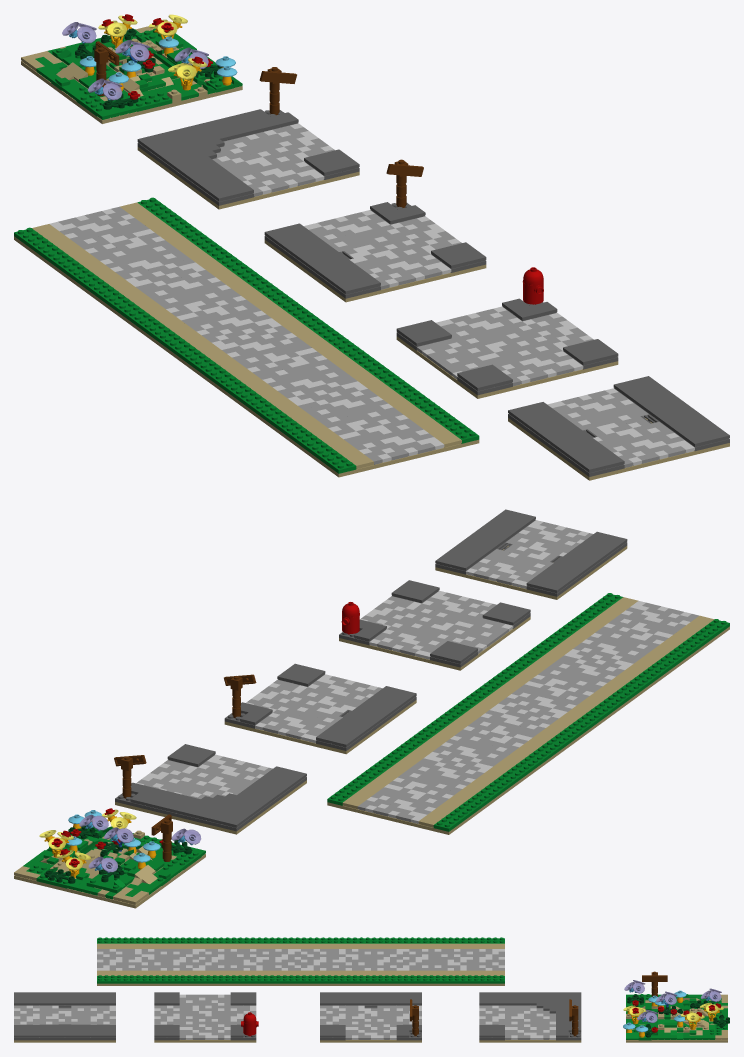
The model's file is road-lod0.fbx.
3 views of the same model, one above another, from view 1: azimuth 30°, elevation 25°; view 2: azimuth 150°, elevation 25°; view 3: azimuth 270°, elevation 25° (orthographic). The views are drawn at different scales.
Parts seen in each view (by area): view 1: Material_194, Material_199, Material_5, Material_28, Material_208, Material_192, Material_126, Material_21, Material_44, Material_322, Material_141, Material_191; view 2: Material_194, Material_199, Material_5, Material_28, Material_208, Material_192, Material_126, Material_141, Material_21, Material_44, Material_322; view 3: Material_194, Material_199, Material_5, Material_28, Material_208, Material_192, Material_126, Material_21, Material_141, Material_44, Material_191, Material_322.
Boxes of the visible parts, x1,y1,x2,y2 form: Material_194: (58, 125, 685, 467); Material_199: (137, 109, 729, 476); Material_5: (14, 26, 729, 480); Material_28: (14, 28, 479, 473); Material_208: (49, 123, 694, 465); Material_192: (94, 41, 423, 207); Material_126: (62, 22, 208, 100); Material_21: (101, 14, 543, 304); Material_44: (98, 14, 207, 79); Material_322: (79, 36, 237, 83); Material_141: (75, 28, 221, 109); Material_191: (85, 21, 231, 91); Material_194: (137, 522, 698, 822); Material_199: (115, 509, 627, 831); Material_5: (14, 545, 729, 908); Material_28: (23, 593, 729, 899); Material_208: (136, 520, 691, 823); Material_192: (114, 674, 256, 861); Material_126: (79, 814, 201, 872); Material_141: (44, 826, 192, 883); Material_21: (51, 602, 359, 867); Material_44: (39, 809, 136, 870); Material_322: (66, 810, 160, 862); Material_194: (14, 949, 555, 1039); Material_199: (14, 992, 581, 1040); Material_5: (14, 943, 727, 1042); Material_28: (97, 937, 727, 1040); Material_208: (14, 949, 555, 1039); Material_192: (410, 971, 667, 1036); Material_126: (624, 980, 721, 1022); Material_21: (241, 1000, 721, 1036); Material_141: (627, 994, 729, 1037); Material_44: (623, 1002, 723, 1021); Material_191: (626, 997, 719, 1037); Material_322: (623, 990, 686, 1032).
Size of the model in its own units: 30.45 by 4.94 by 89.84.
